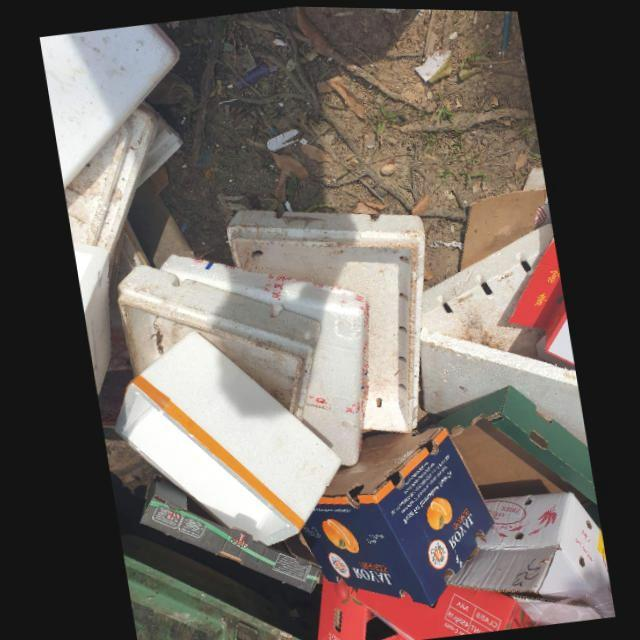cardboard: (297, 424, 491, 605), (135, 471, 318, 591), (421, 383, 595, 504)
